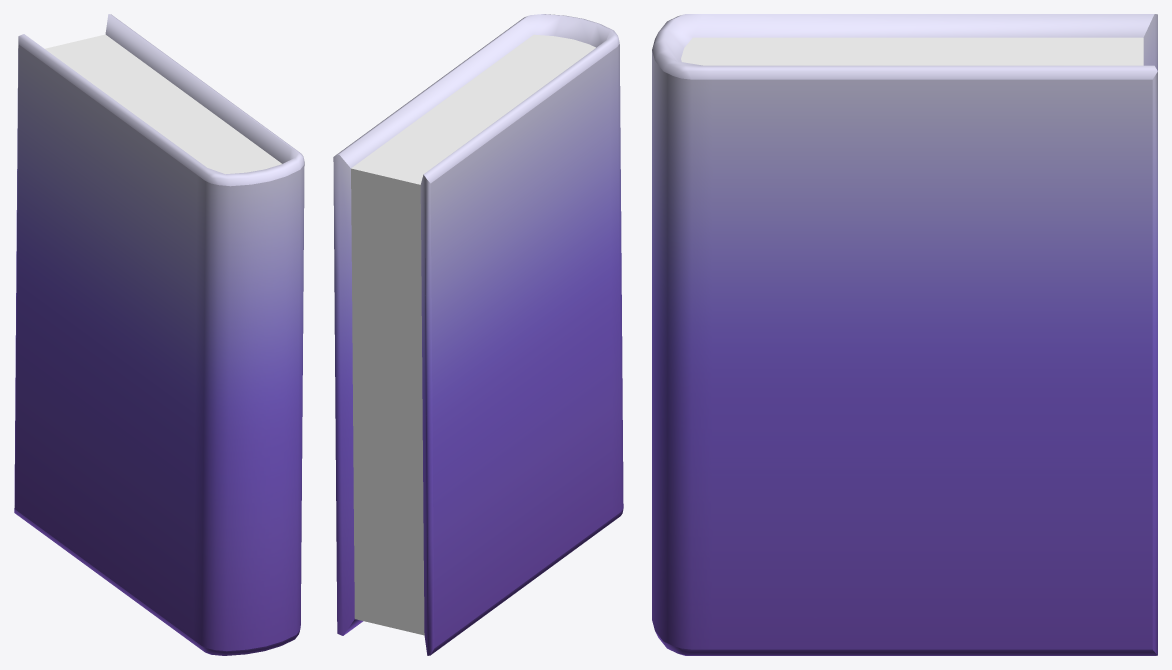
The model's file is Book_3.fbx.
3 views of the same model, side by side, from view 1: azimuth 30°, elevation 25°; view 2: azimuth 150°, elevation 25°; view 3: azimuth 270°, elevation 25° (orthographic). The views are drawn at different scales.
Parts seen in each view (by area): view 1: Book_3; view 2: Book_3; view 3: Book_3.
Boxes of the visible parts, x1,y1,x2,y2 form: Book_3: (14, 14, 304, 655); Book_3: (333, 14, 623, 655); Book_3: (652, 14, 1157, 655).
Size of the model in its own units: 0.0672 by 0.3074 by 0.2375.
